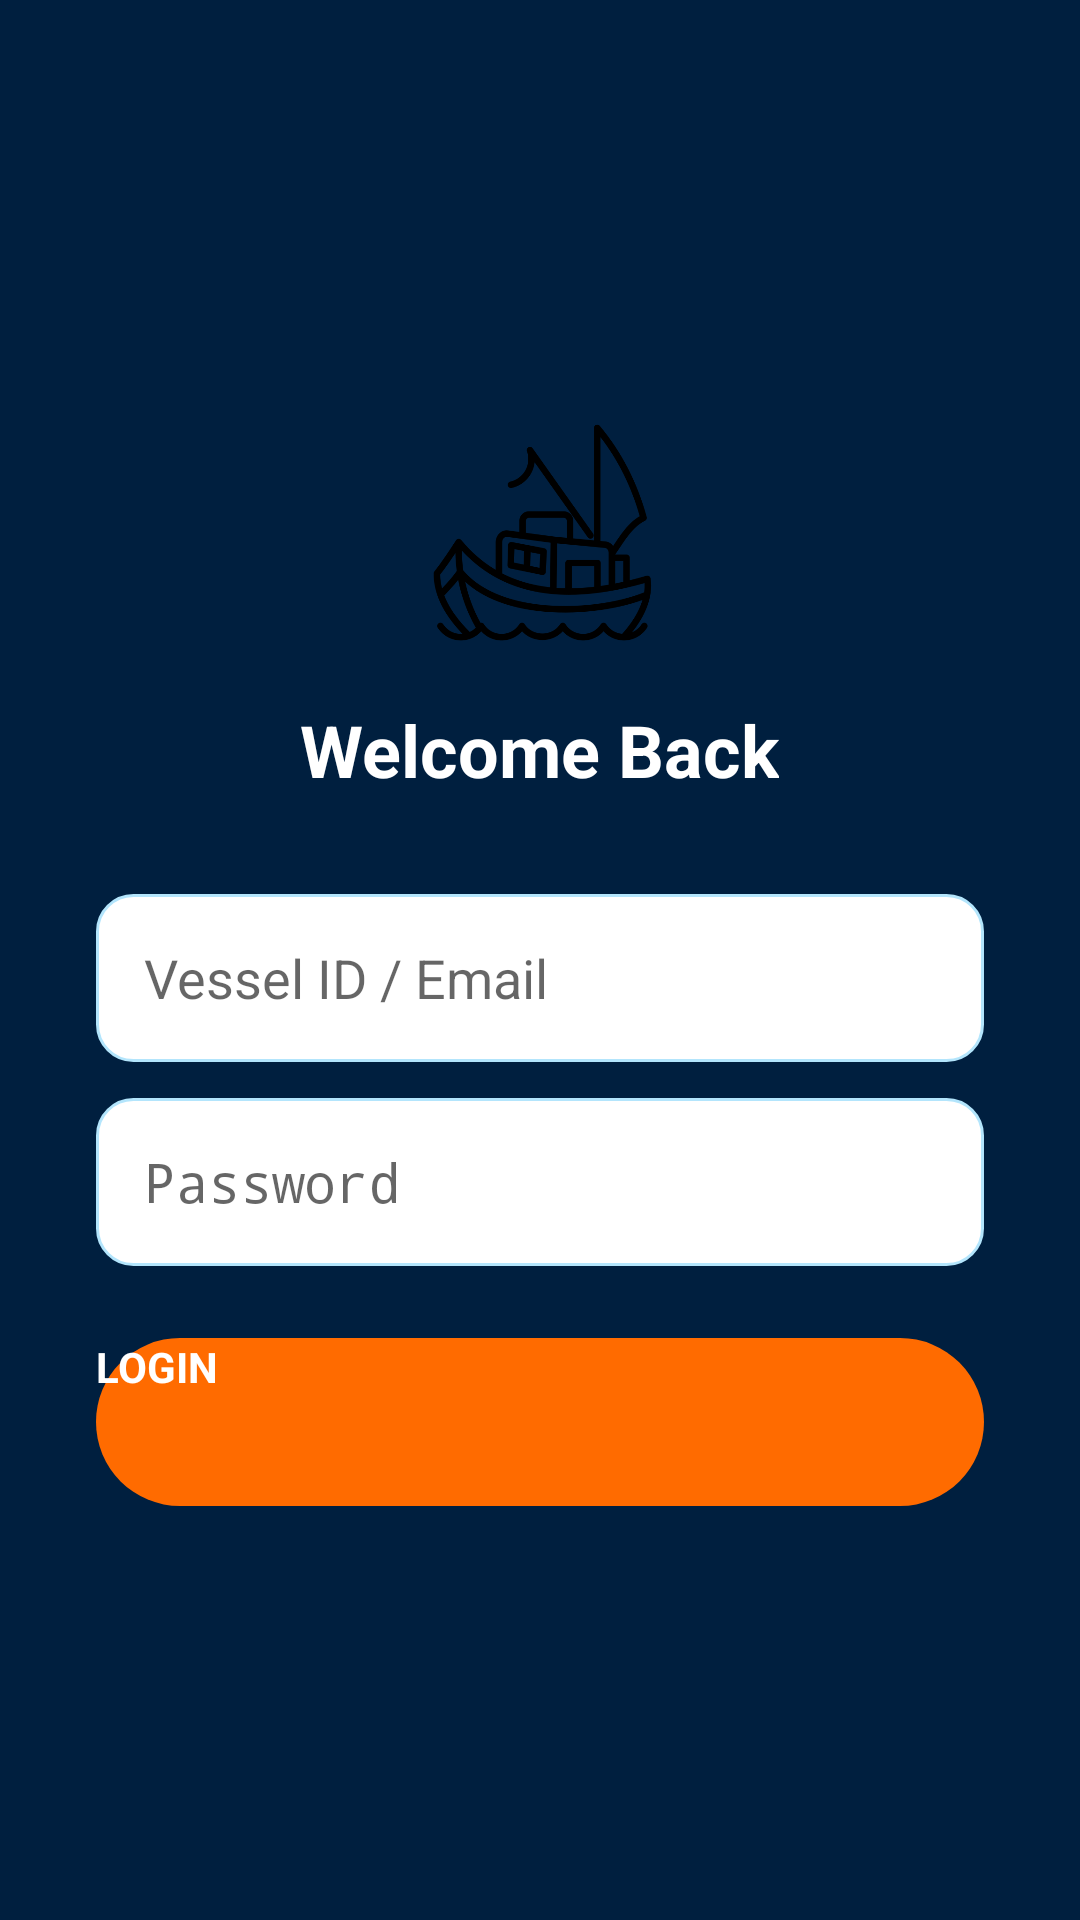

Screen size 1080px x 1920px. Icon name, then its center in pixels as (x=x, y=y):
fishing boat: (x=542, y=532)
